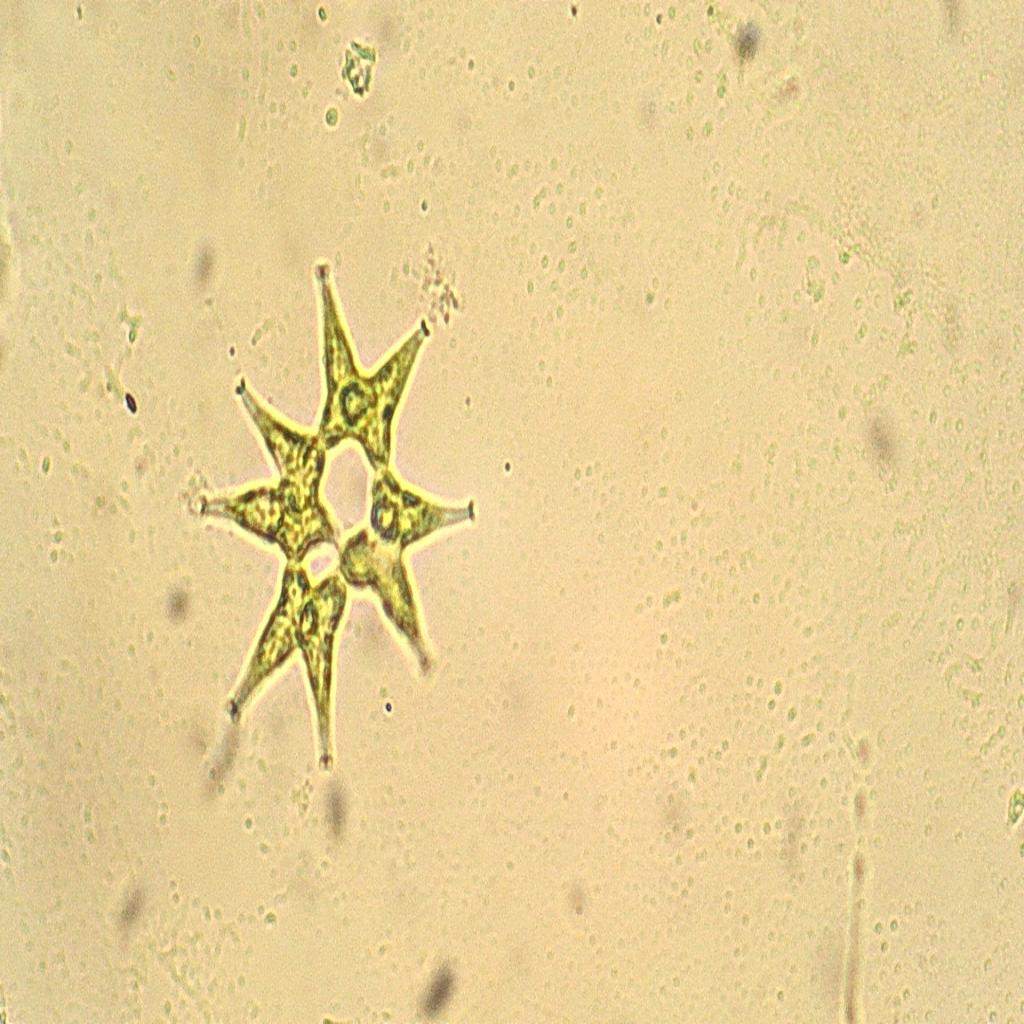Pediastrum_CF: (186, 255, 482, 798)
